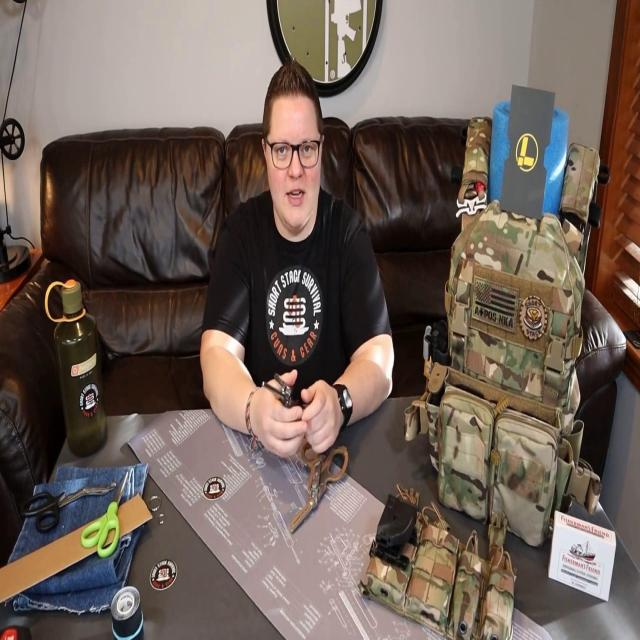scissor: (290, 441, 348, 532), (20, 481, 116, 534), (82, 471, 128, 557)
